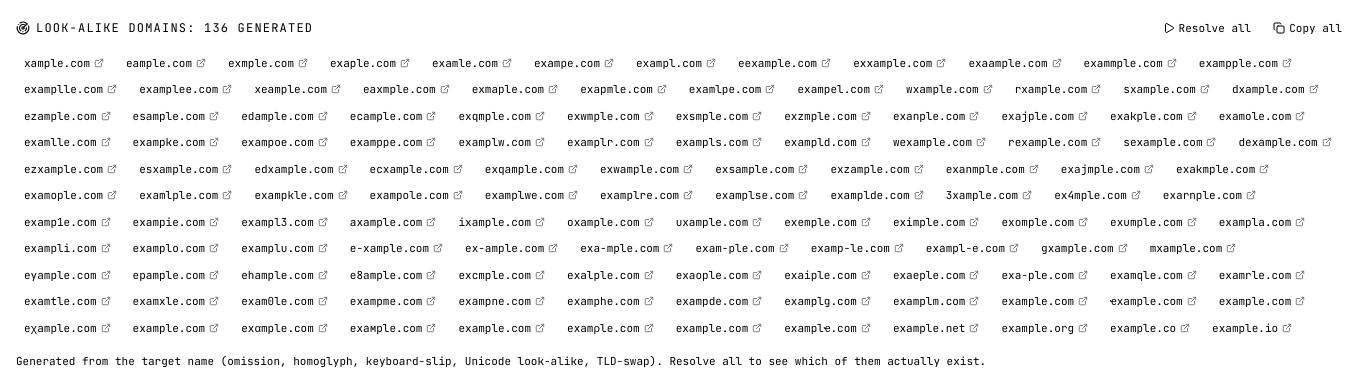
Test: <TyposquatPanel> › replaces the list with what actually resolves
This screenshot has width=1359, height=384.
Click the button with aria-label "Resolve every look-alike" at (1207, 28), box [1155,16,1259,40]
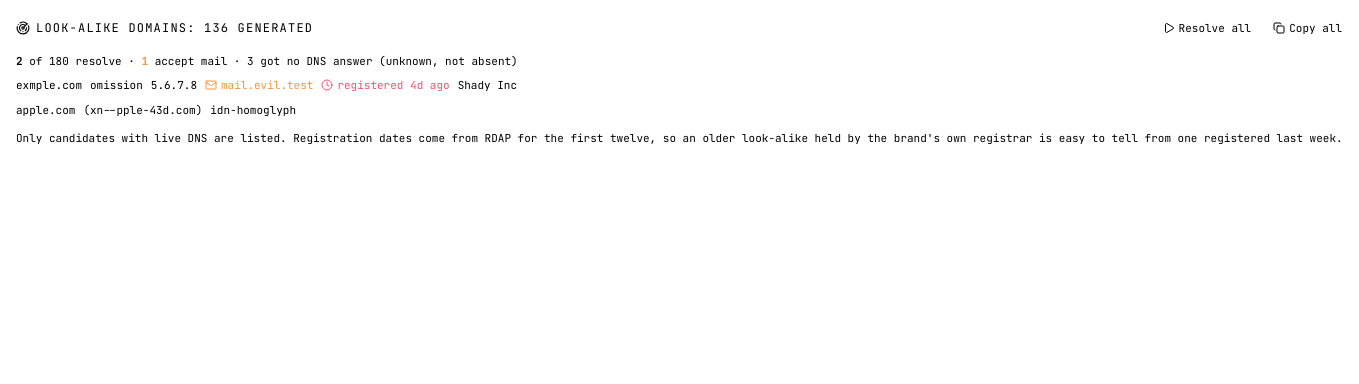
Now the text "2" is shown, box [16,54,23,68]
Now the text "3 got no DNS answer (unknown, not absent)" is shown, box [16,54,518,68]
Now the text "registered 4d ago" is shown, box [321,77,450,94]
